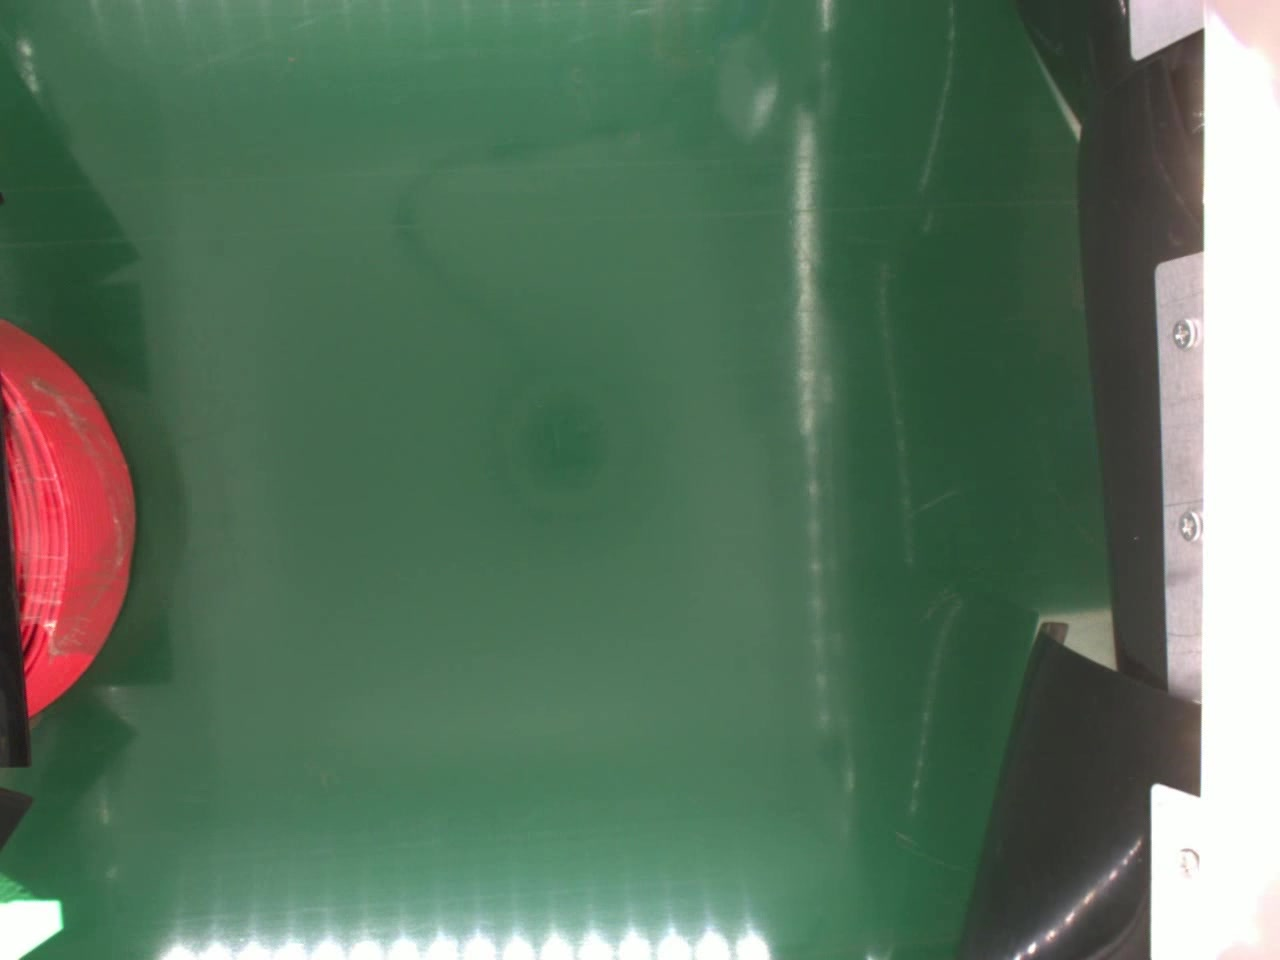red: (0, 313, 138, 716)
